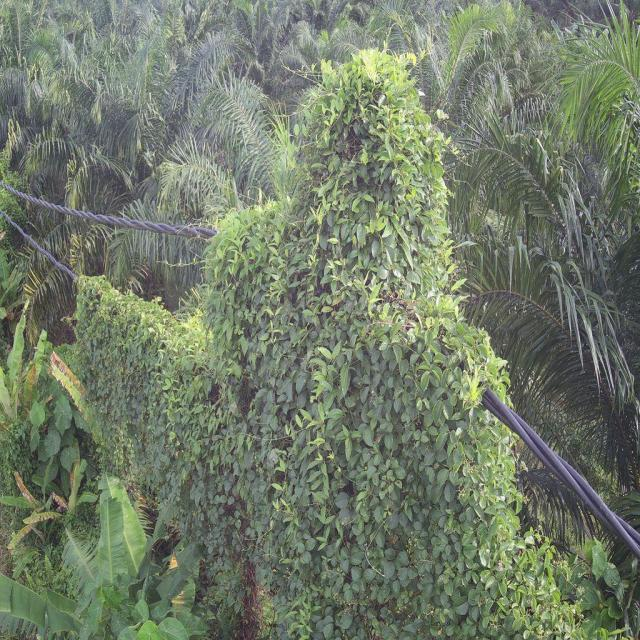critical vegetation: (54, 32, 564, 601)
